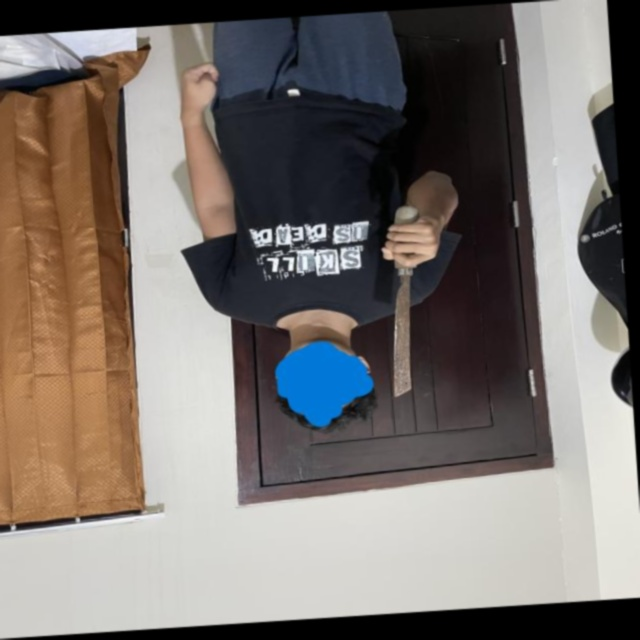Sharp-Object: (379, 203, 433, 399)
